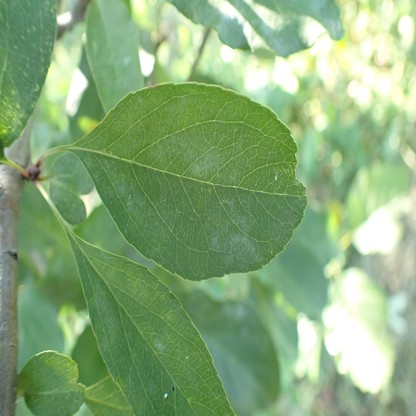powdery_mildew: (66, 82, 308, 282), (84, 274, 115, 349), (153, 339, 164, 350)
